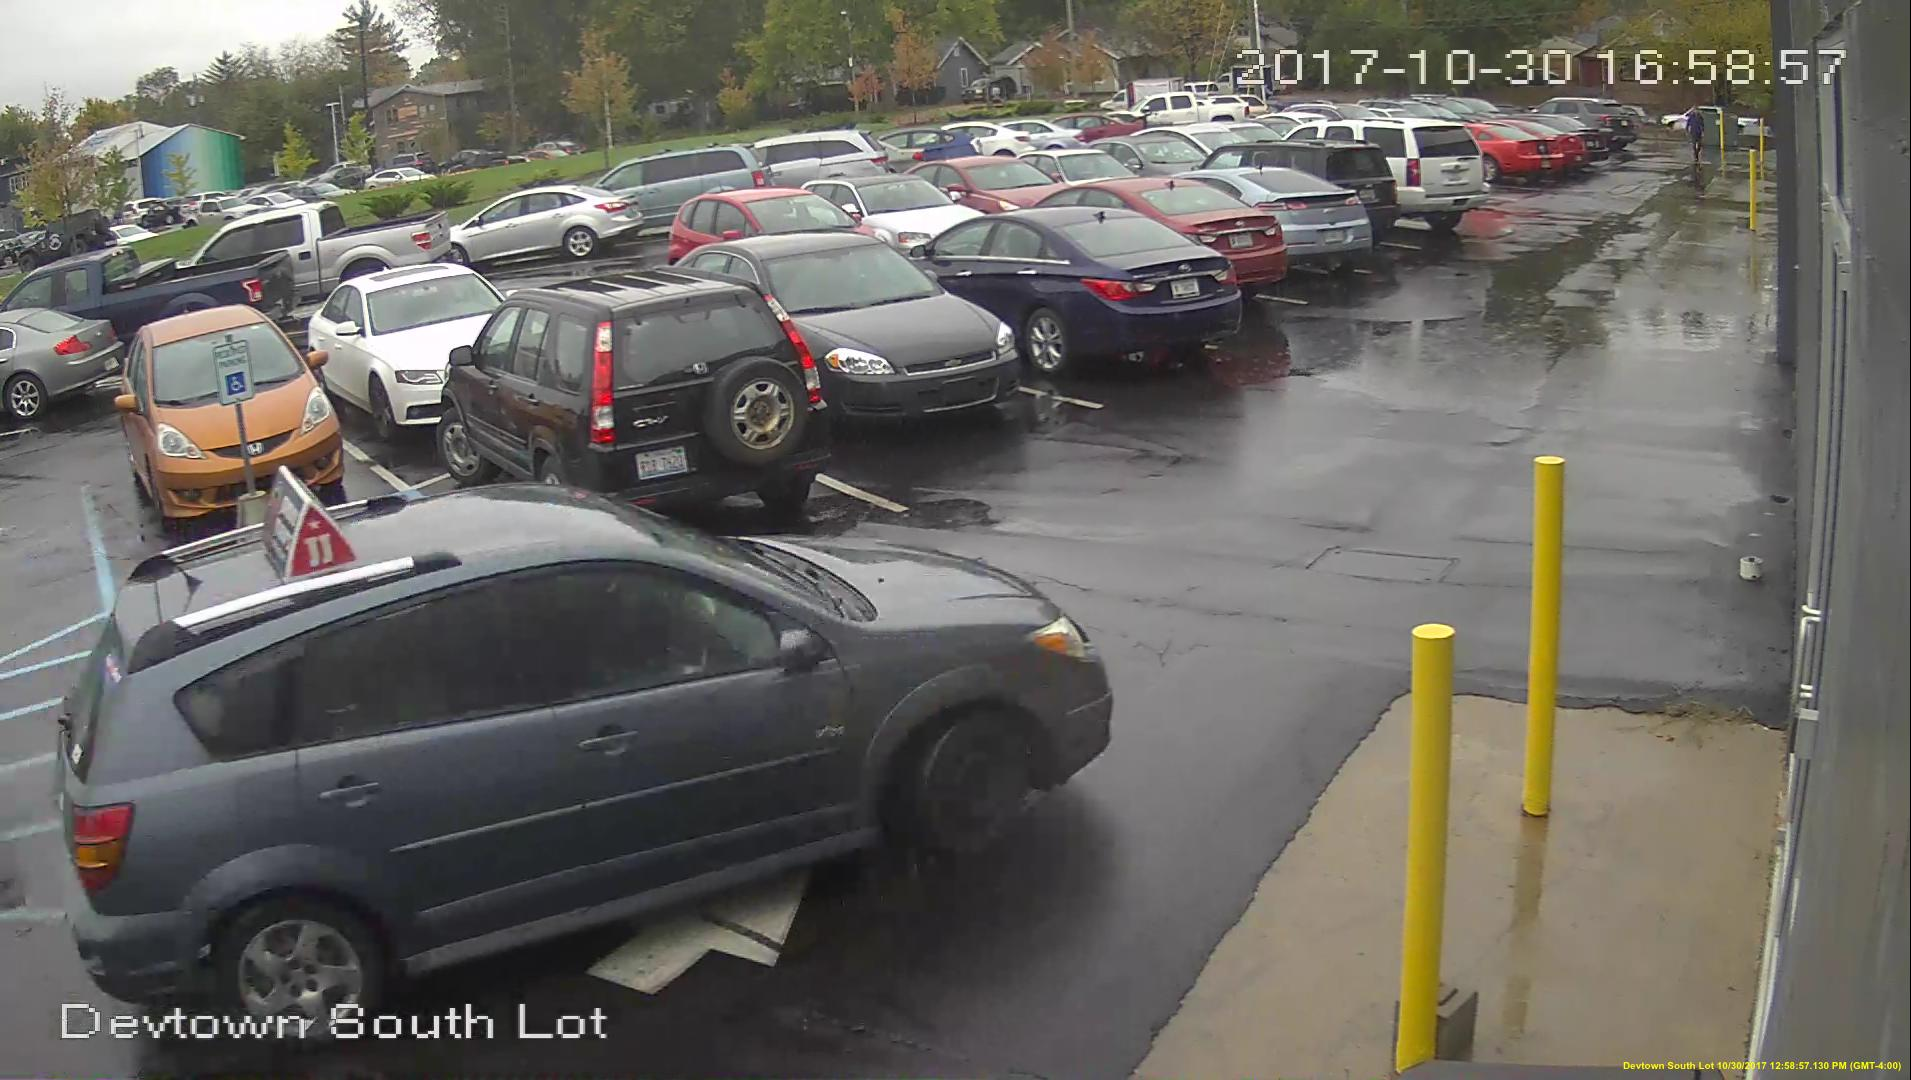jimmy_johns: (260, 463, 357, 579)
